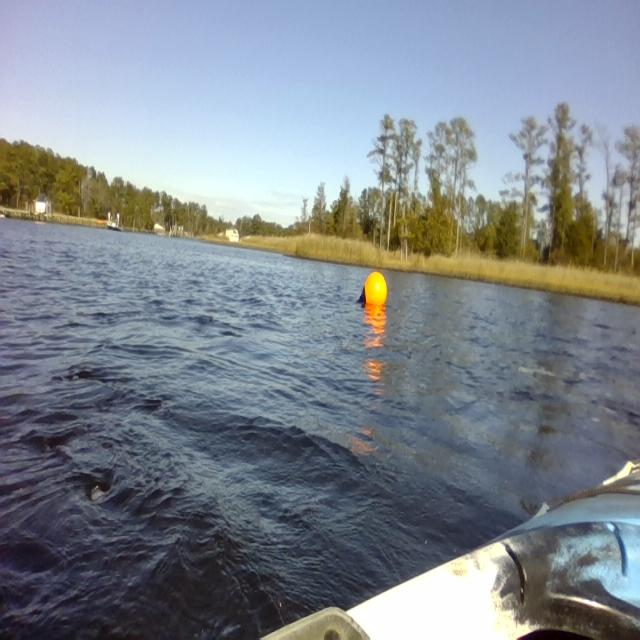Buoy: (352, 262, 392, 320)
